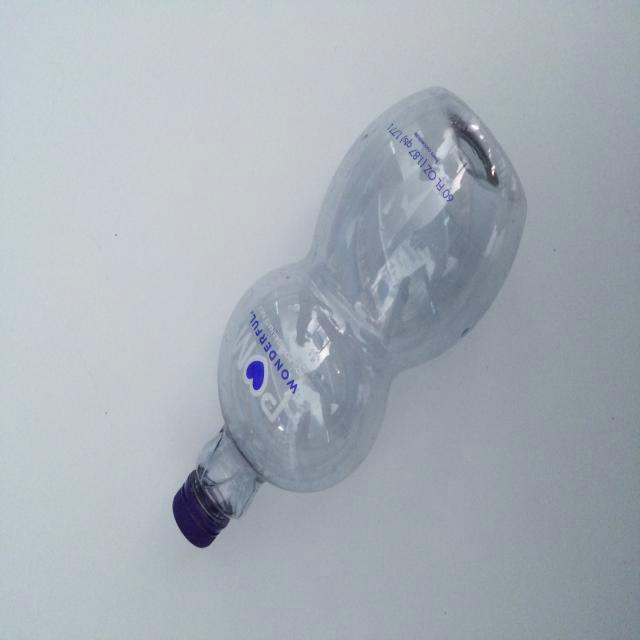plastic: (146, 56, 546, 579)
